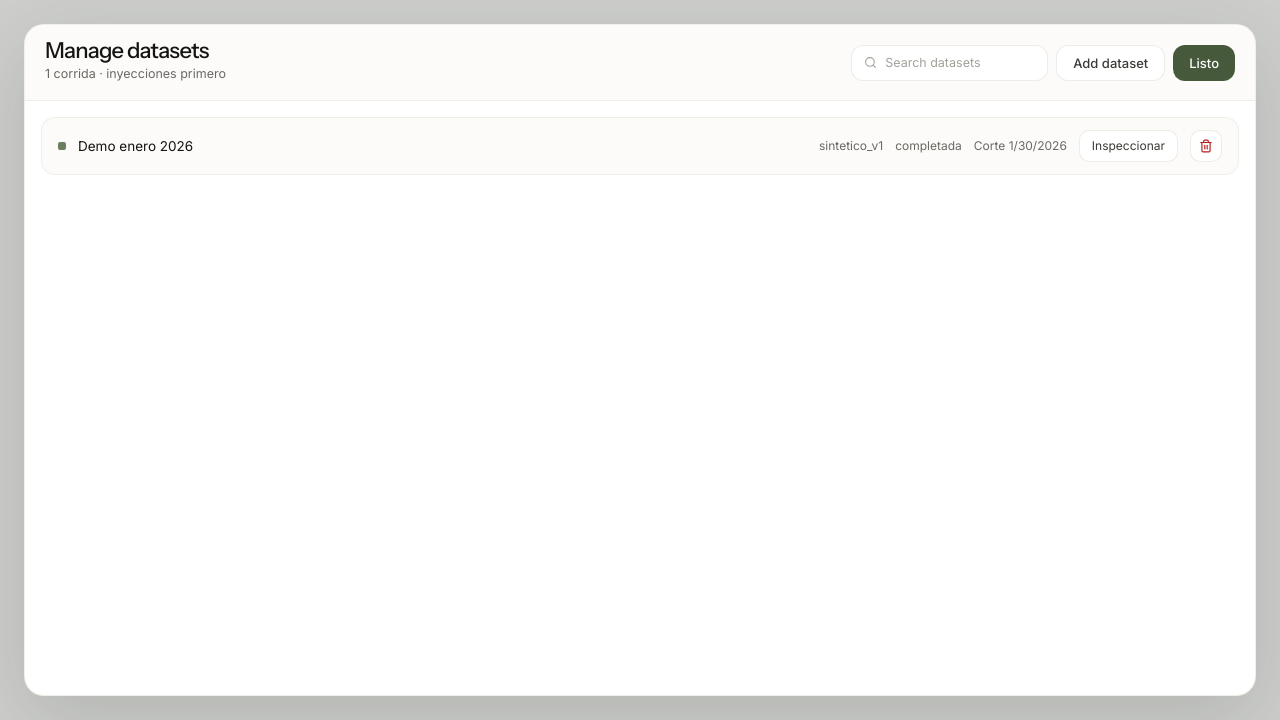
Scenario: Administrar datos — borrar corrida (2026-09-12) › muestra el error del servidor y deja la fila si el borrado falla
Click the button named "Delete demo enero 2026" at (1206, 146), box x1=1190 y1=130 x2=1222 y2=162
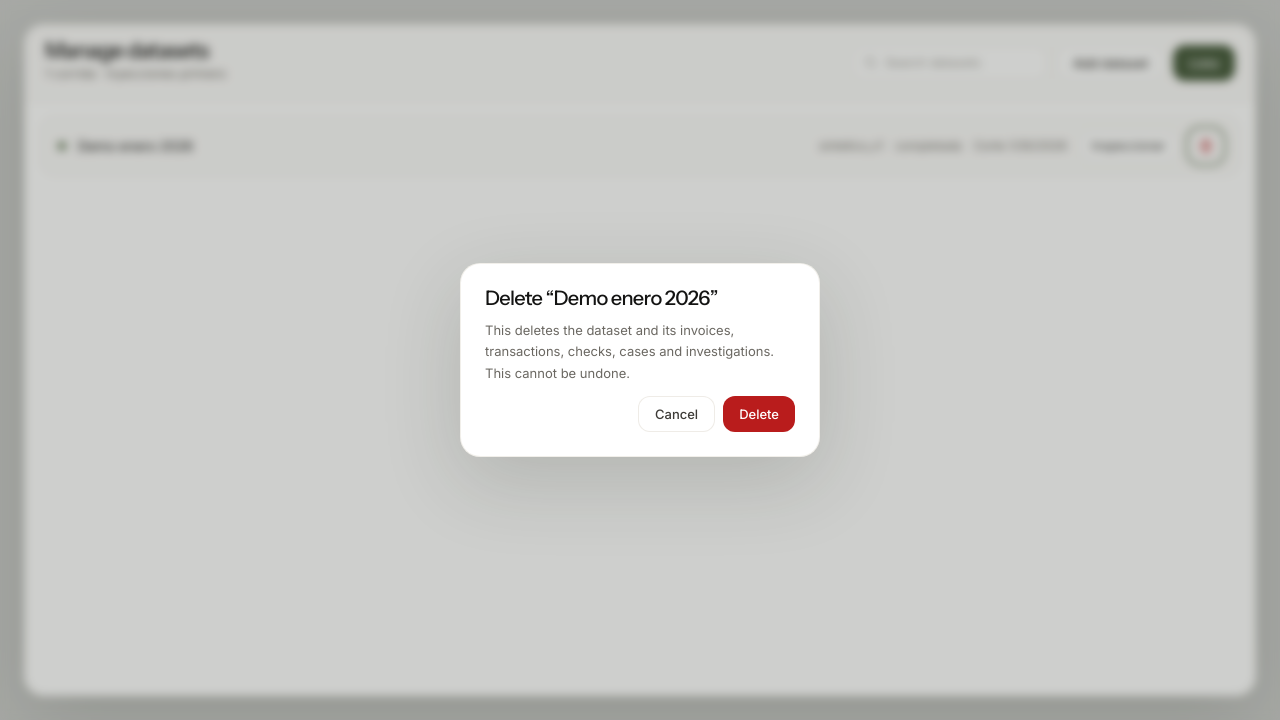
Click the button "Delete" at (759, 414), box x1=723 y1=396 x2=795 y2=432
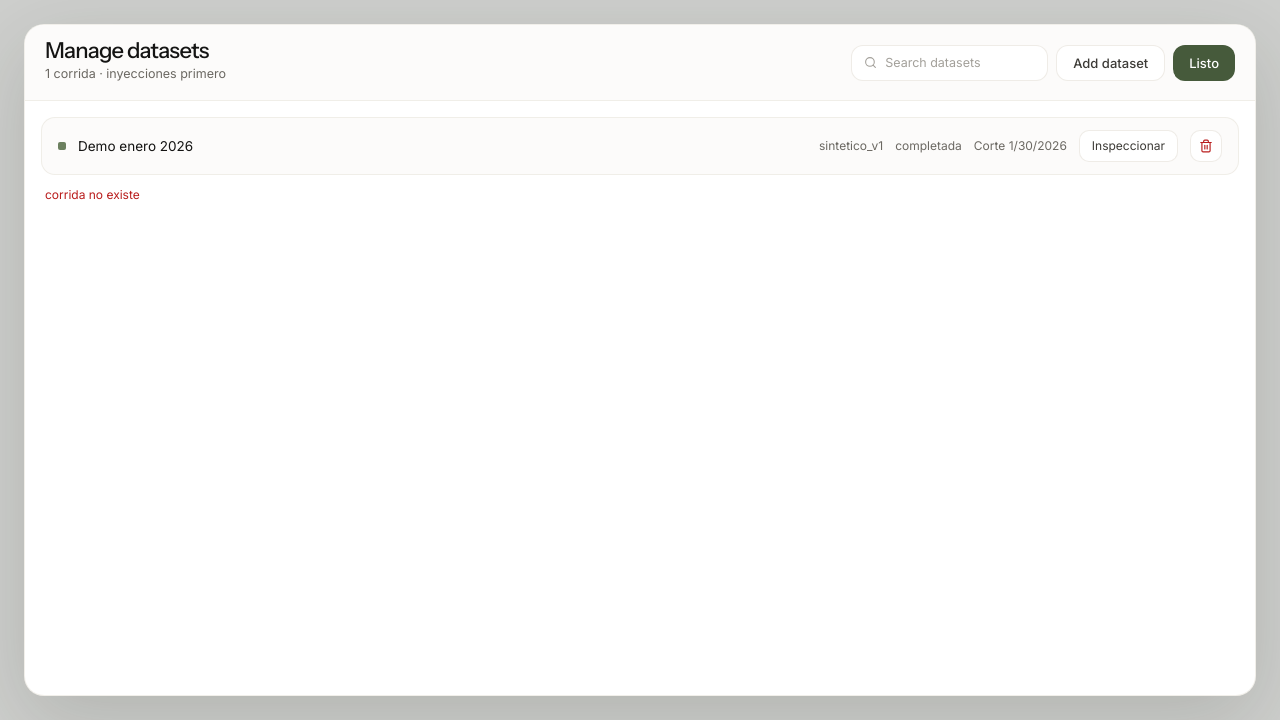
Expected: the text "Demo enero 2026" is shown, x1=78 y1=138 x2=193 y2=154
Expected: the text "corrida no existe" is shown, x1=45 y1=187 x2=140 y2=202
